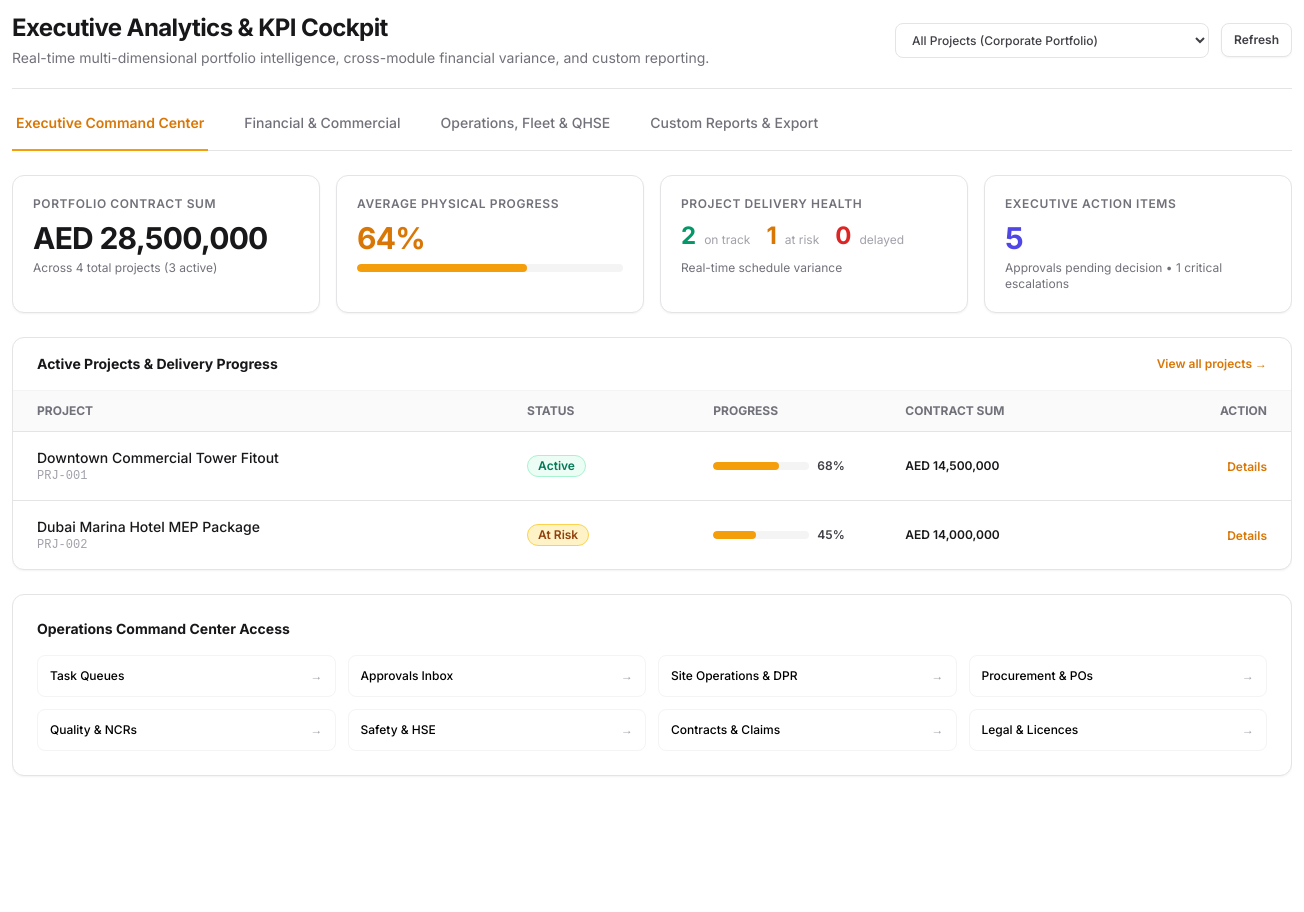
DashboardPage › navigates to Operations, Fleet & QHSE tab and shows mobilization and safety
This screenshot has width=1304, height=912.
Click the button "Operations, Fleet & QHSE".
click(525, 132)  # box [437, 113, 614, 151]
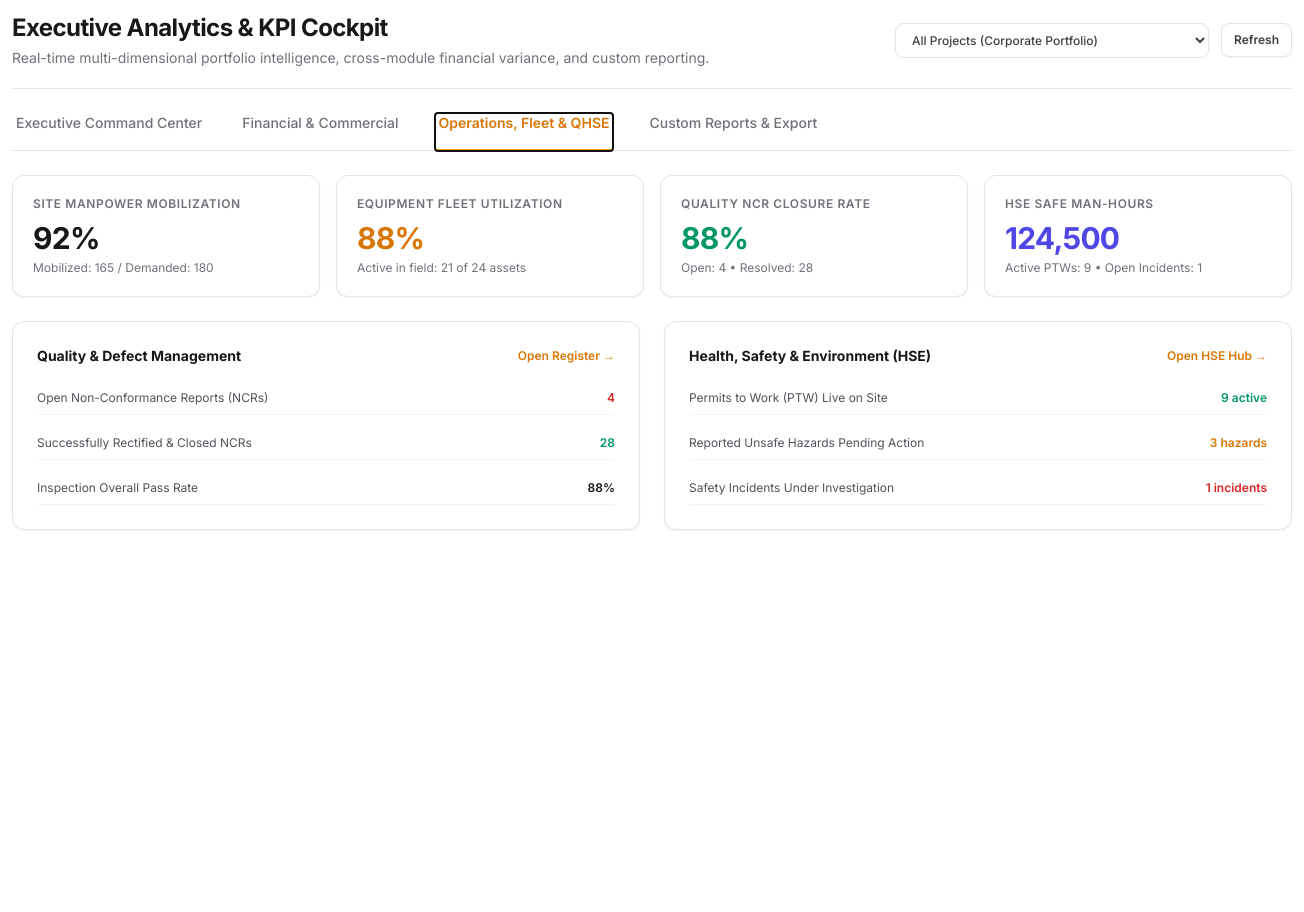
Expected: the text "Site Manpower Mobilization" is shown, [33, 196, 241, 211]
Expected: the text "92%" is shown, [33, 220, 100, 256]
Expected: the text "Equipment Fleet Utilization" is shown, [357, 196, 563, 211]
